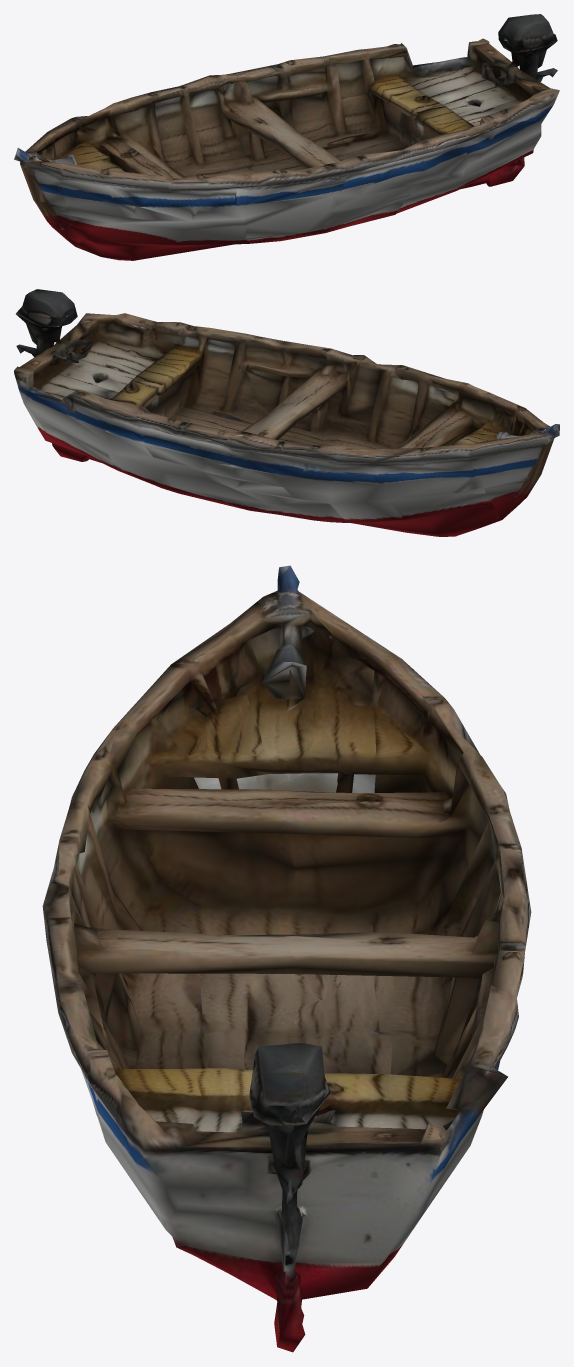
File: boat.glb
3 views of the same model, one above another, from view 1: azimuth 30°, elevation 25°; view 2: azimuth 150°, elevation 25°; view 3: azimuth 270°, elevation 25° (orthographic). The views are drawn at different scales.
Parts seen in each view (by area): view 1: boat; view 2: boat; view 3: boat.
Boxes of the visible parts, x1,y1,x2,y2 form: boat: [14, 14, 559, 260]; boat: [14, 289, 559, 536]; boat: [42, 565, 531, 1352].
Bounding box in the file's own units: 0.9958 × 0.2759 × 0.3875.
1 material, 1 textured.
